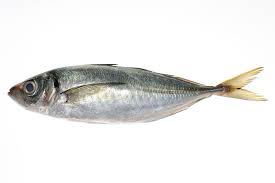azi: (7, 57, 264, 125)
